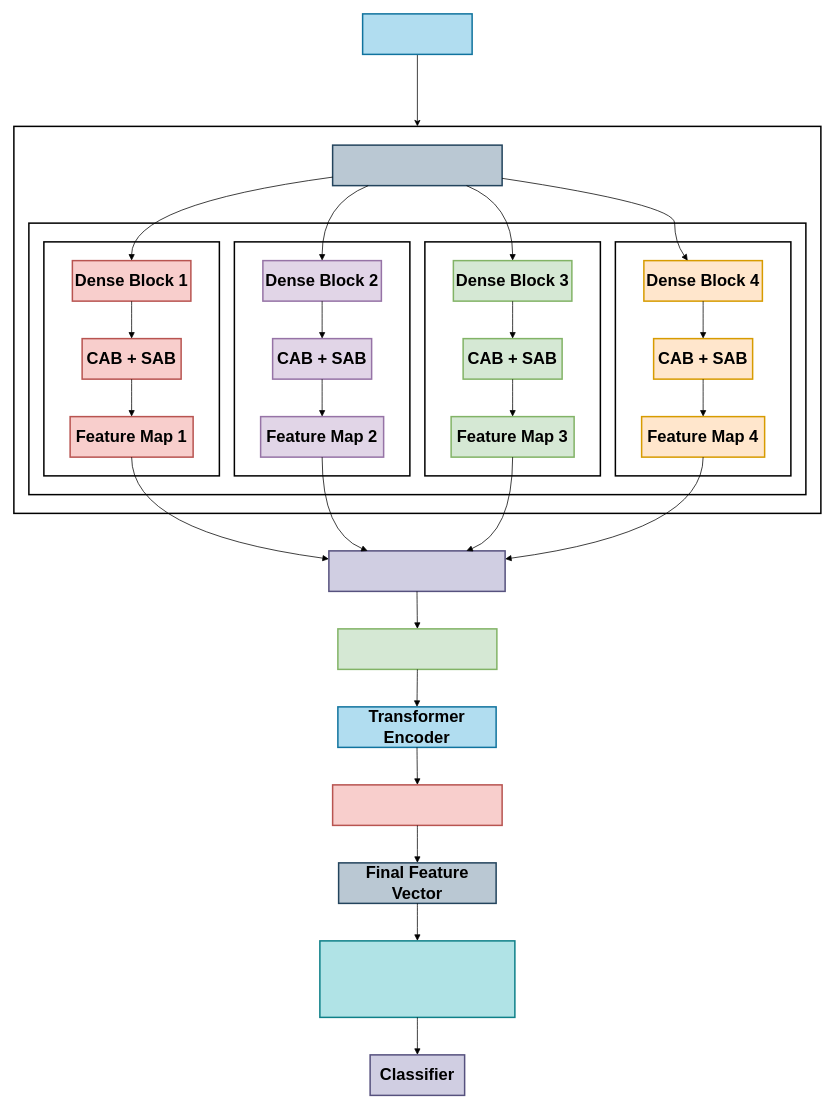
This 834x1109 diagram has some shape labels left out. Here are the shapes that lost their labels. From the top down, the box of each, then its label:
(362, 13, 472, 55): Input Image
(332, 144, 502, 186): DenseNet121 Backbone
(328, 550, 506, 592): Align and 1x1 Projection
(337, 628, 497, 670): Gated Fusion Module
(332, 784, 502, 826): Global Average Pooling
(319, 940, 515, 1018): Genetic Algorithm Dimensionality Reduction 6400 -> 3248
